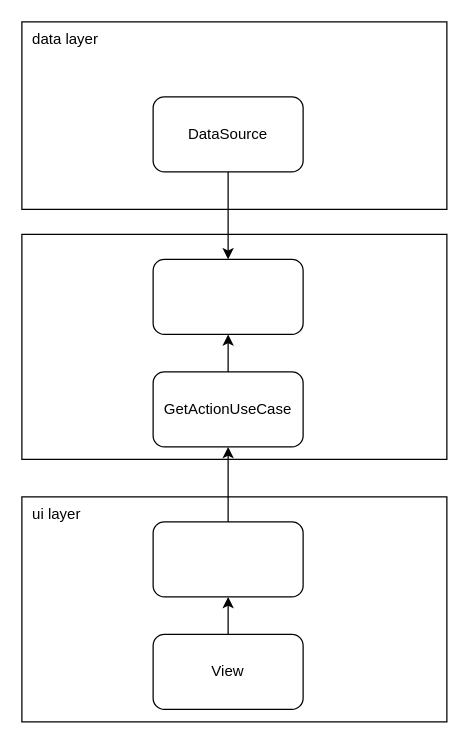
Some shapes in this 469 by 744 pixel diagram are drawn without their labels. Here are the shapes that lost their labels. From the top down, the box of each, then its label:
(152, 258, 303, 334): ActionRepository
(21, 233, 447, 459): domain layer
(152, 521, 303, 597): viewModel
